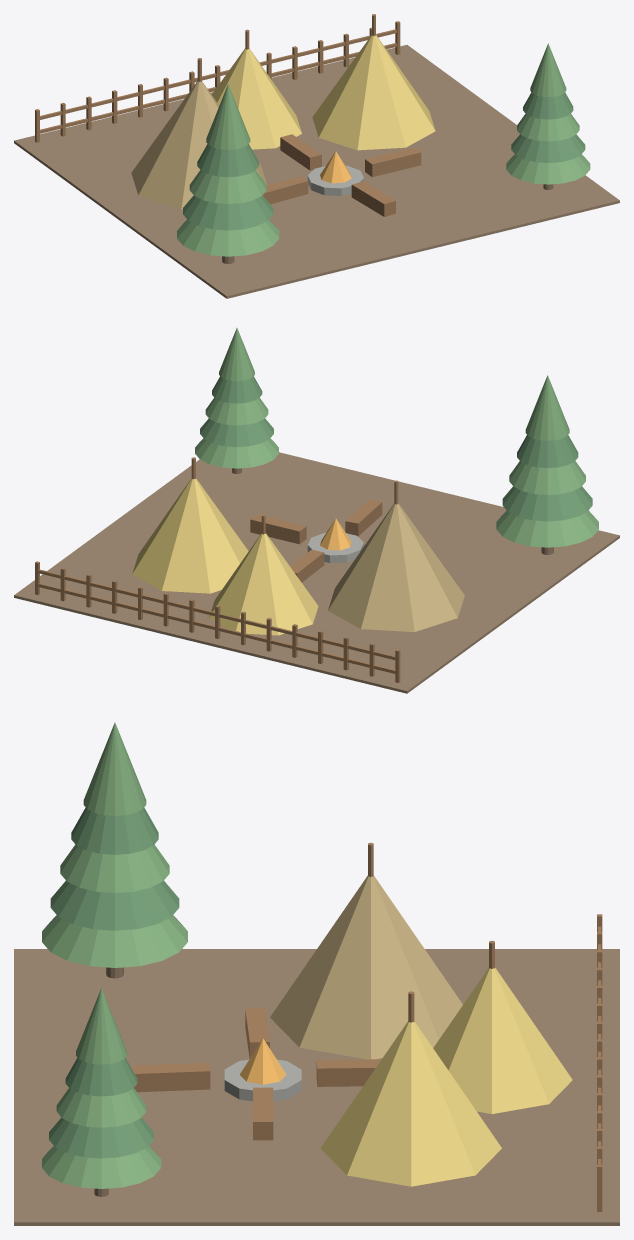
File: camp.fbx
The picture shows the model from 3 angles, top to bottom: view 1: azimuth 30°, elevation 25°; view 2: azimuth 150°, elevation 25°; view 3: azimuth 270°, elevation 25°; orthographic projection. The views are drawn at different scales.
Parts seen in each view (by area): view 1: camp; view 2: camp; view 3: camp.
Boxes of the visible parts, x1,y1,x2,y2 form: camp: [14, 14, 619, 298]; camp: [14, 328, 619, 693]; camp: [14, 722, 619, 1225].
Size of the model in its own units: 980 by 420 by 900.
